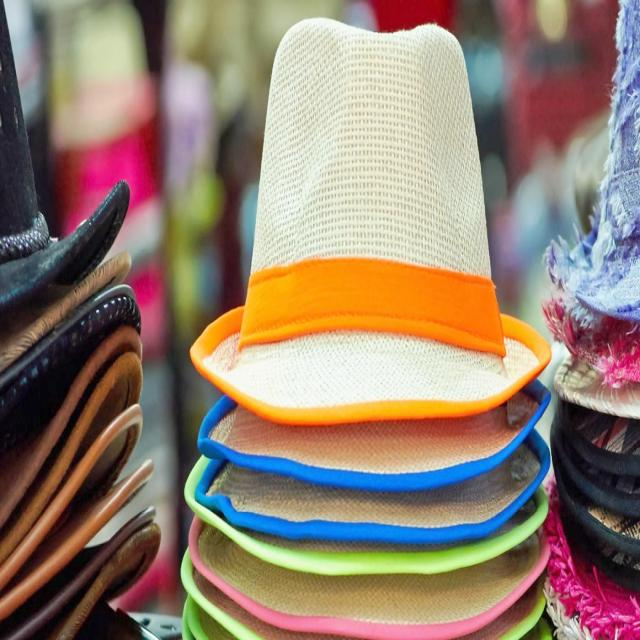TOPI: (185, 12, 555, 431)
